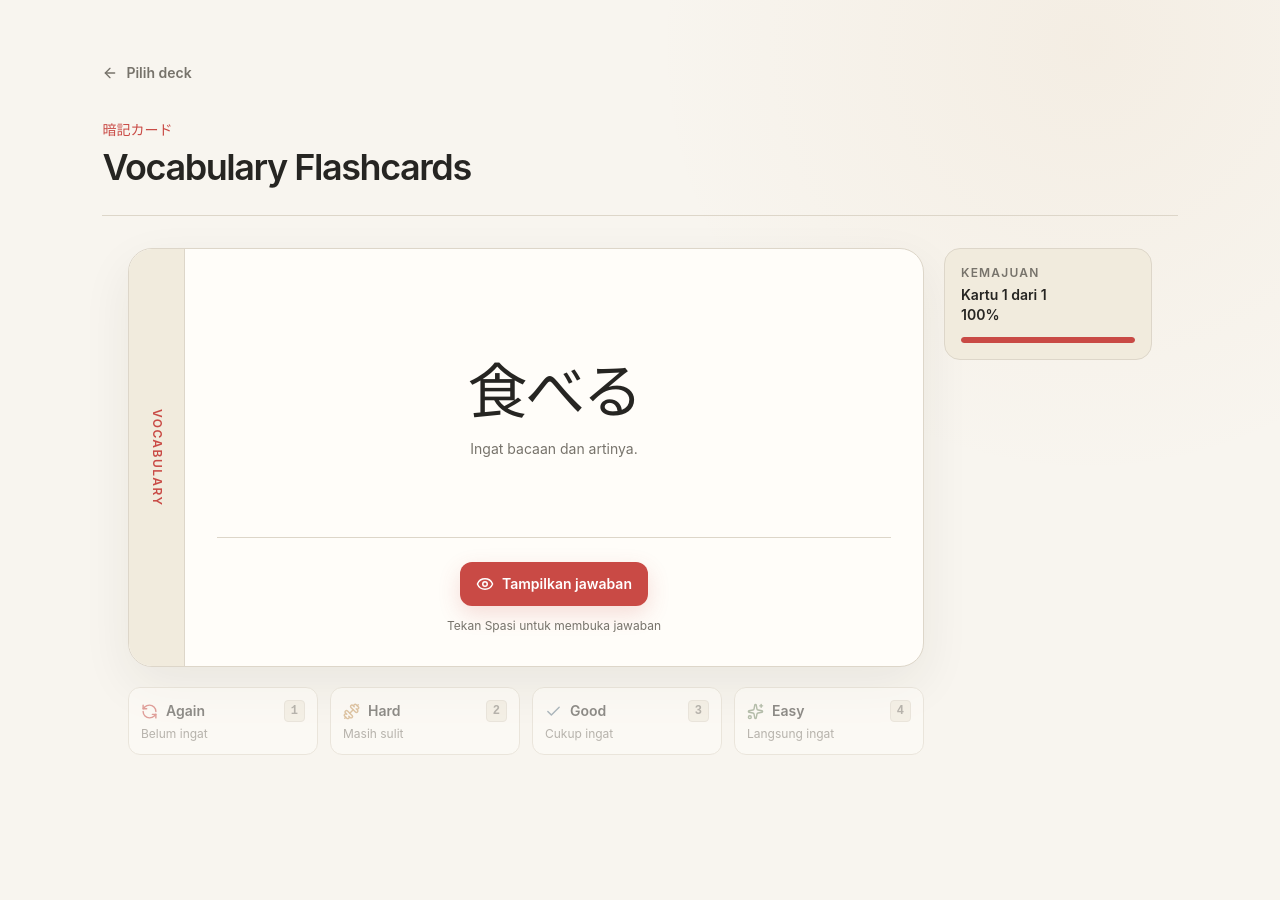
it: FlashcardSessionPage › completes the injected deck with the real session UI
Click the button "Tampilkan jawaban" at (554, 584), box [460,562,648,606]
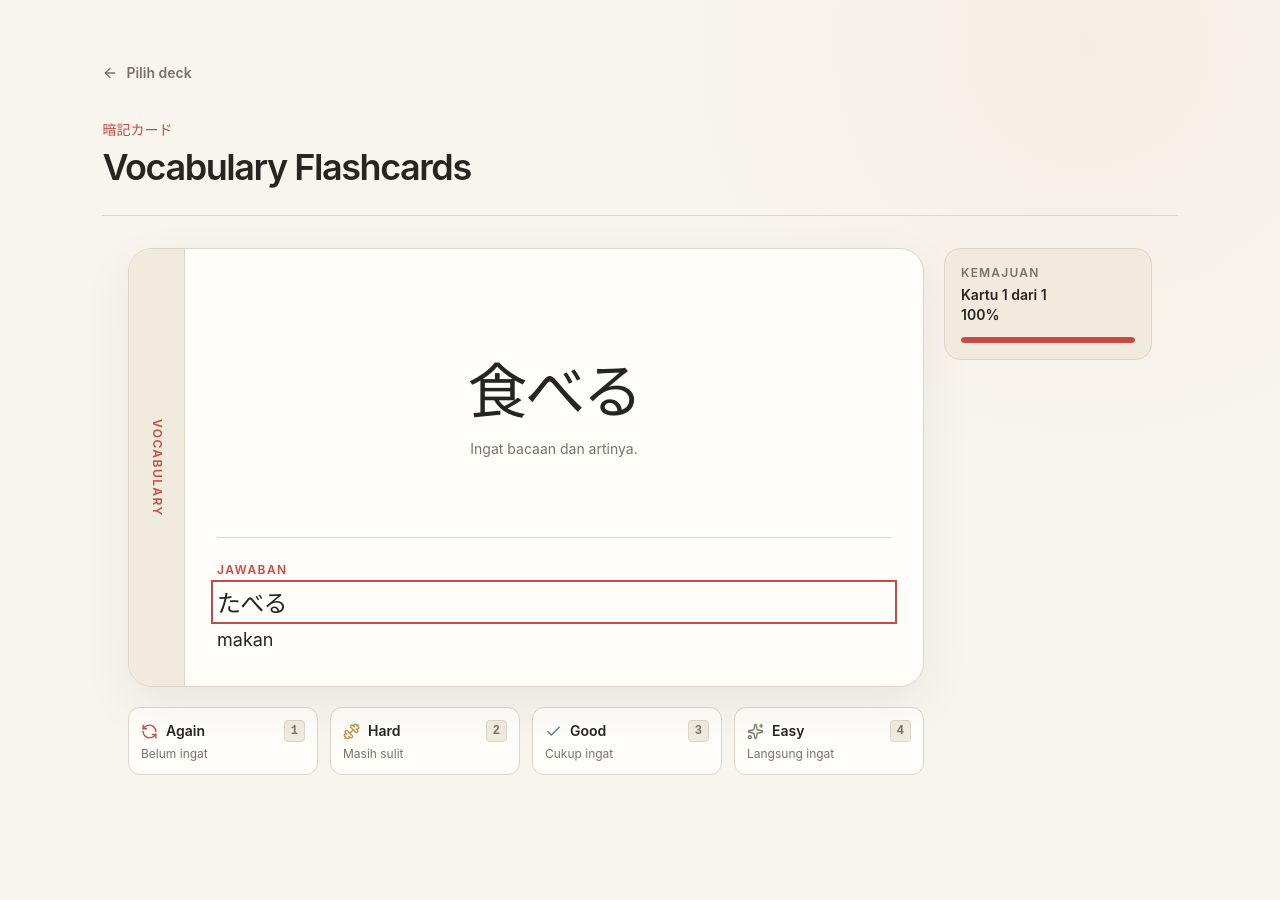
Click the button with aria-label "Good, tombol 3" at (627, 741), box [532,707,722,775]
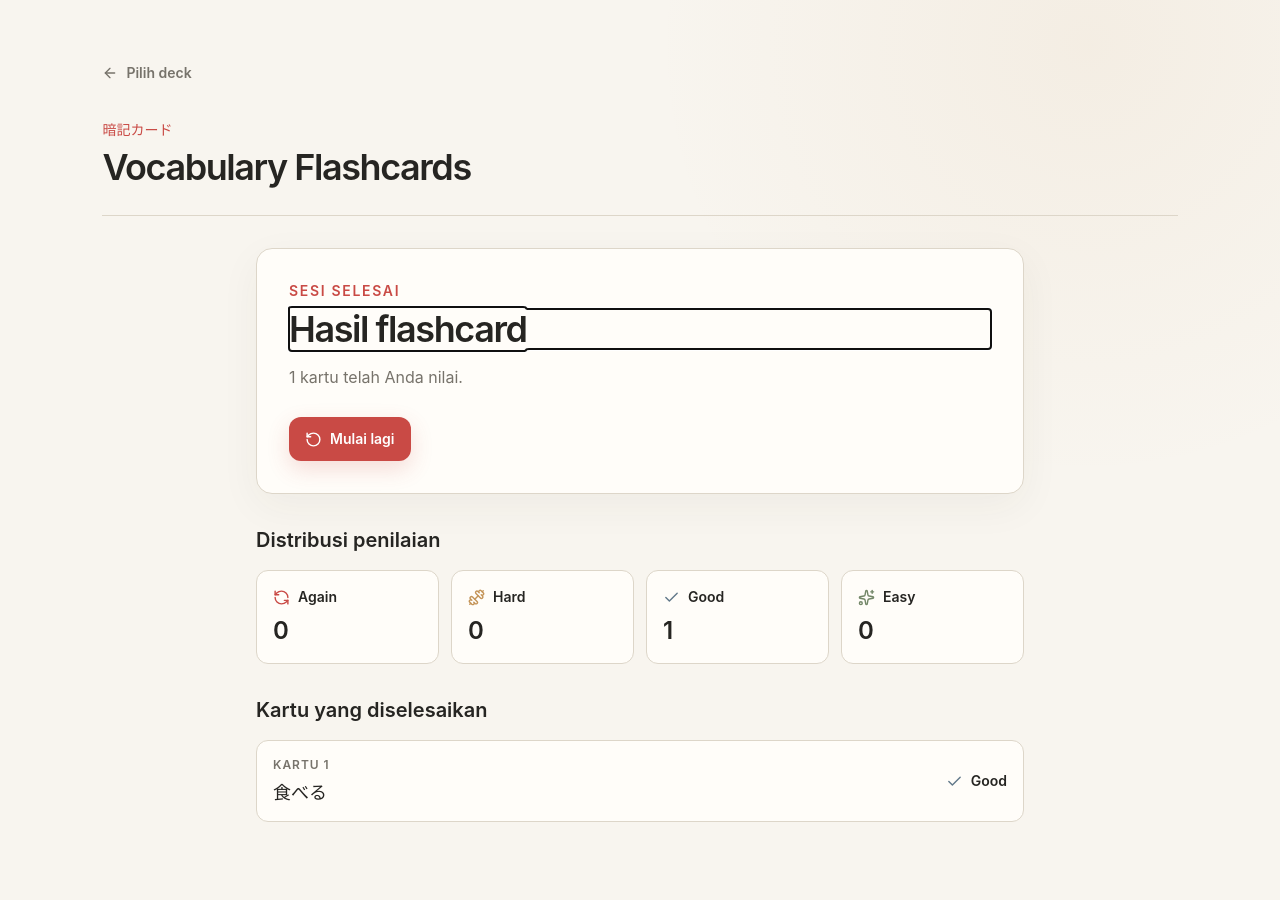
Expected: the heading "Hasil flashcard" is shown, [289,307,526,351]
Expected: the list item with aria-label "Good: 1" is shown, [646,570,829,664]
